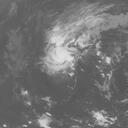cyclone: (42, 31, 80, 75)
